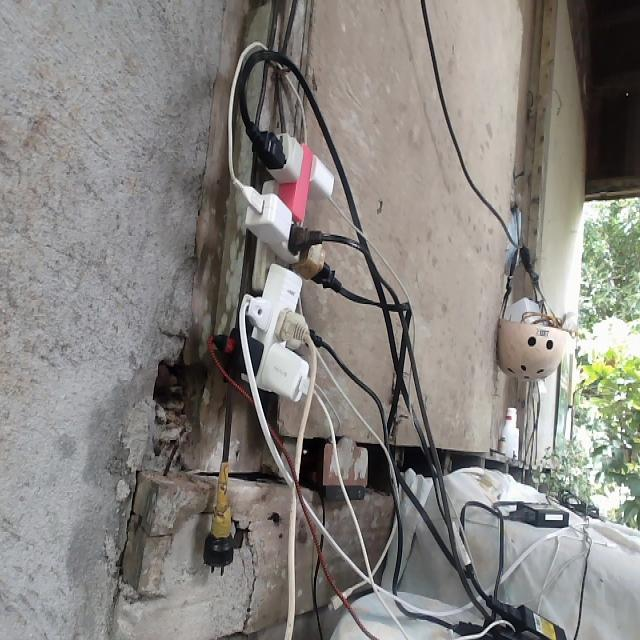-: (226, 120, 337, 403)
